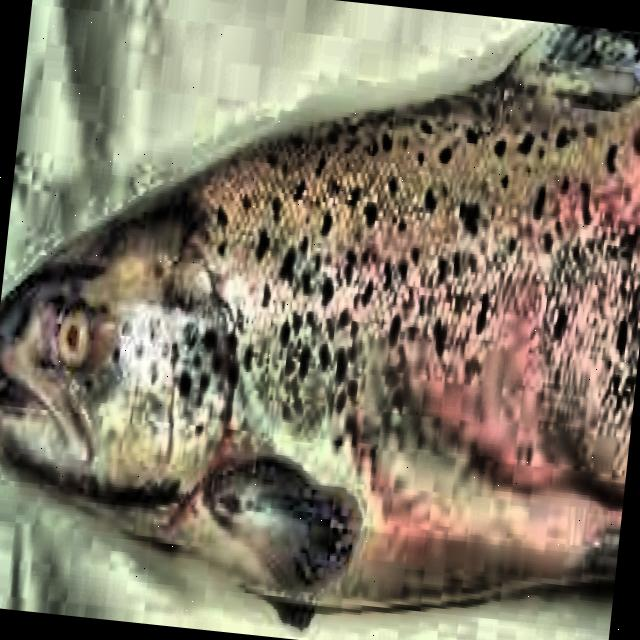mild_red: (430, 278, 639, 497), (354, 432, 457, 555), (591, 135, 640, 248), (204, 421, 249, 476), (173, 478, 204, 521)
